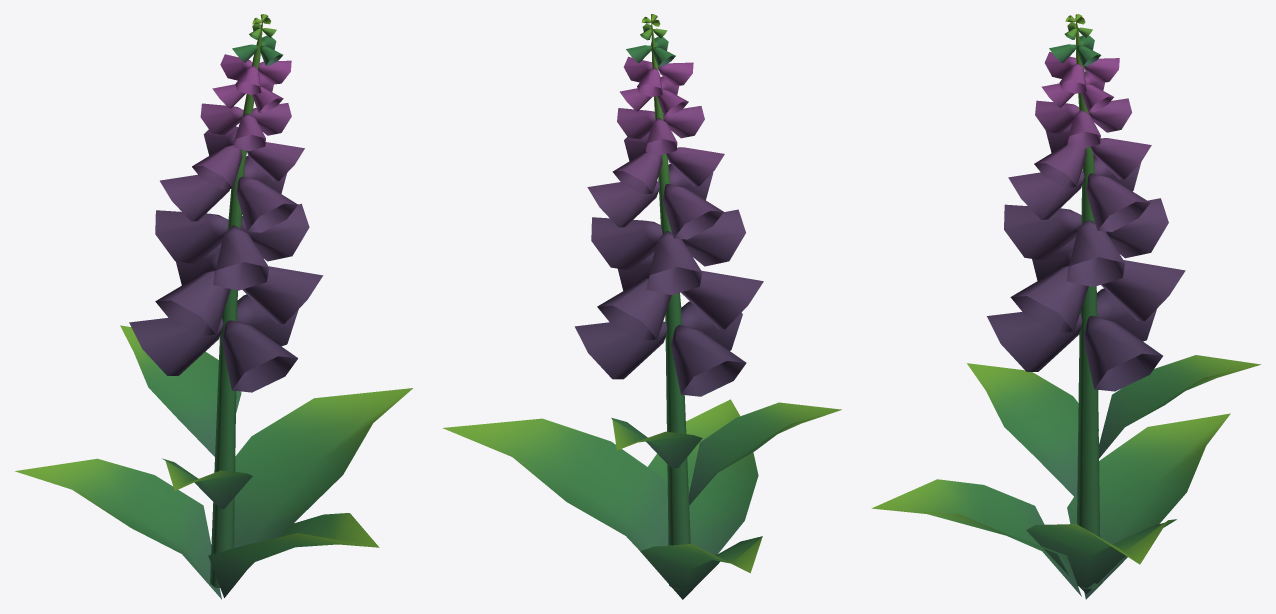
The model's file is Flower_025.fbx.
The picture shows the model from 3 angles, left to right: view 1: azimuth 30°, elevation 25°; view 2: azimuth 150°, elevation 25°; view 3: azimuth 270°, elevation 25°; orthographic projection. The views are drawn at different scales.
Visible parts, largest first — view 1: Flower.025; view 2: Flower.025; view 3: Flower.025.
Boxes of the visible parts, x1,y1,x2,y2 form: Flower.025: (15, 14, 412, 599); Flower.025: (442, 14, 841, 599); Flower.025: (871, 14, 1260, 599).
Size of the model in its own units: 2.13 by 3.31 by 1.94.
